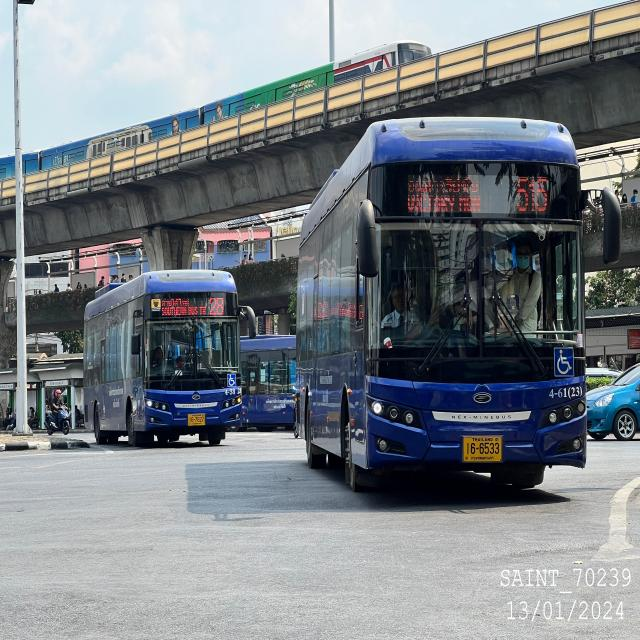Bus Line Number: (514, 172, 552, 217), (208, 294, 226, 316)
Bus Side Number: (547, 384, 582, 401), (224, 387, 242, 396)
Destination Sign: (403, 170, 482, 218), (161, 296, 207, 318)
TSB-Bus: (295, 117, 588, 491), (82, 269, 245, 446), (239, 337, 297, 430)
